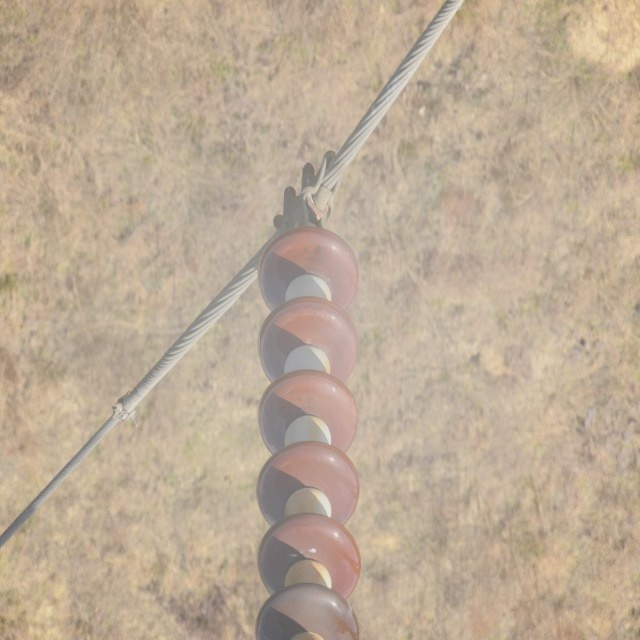insulator: (252, 225, 360, 640)
